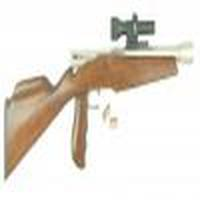gun: (1, 14, 200, 175)
